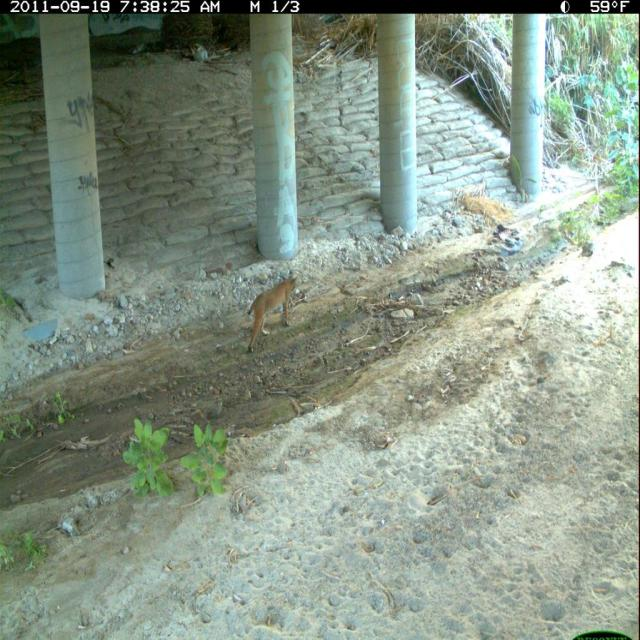bobcat: (246, 267, 305, 361)
